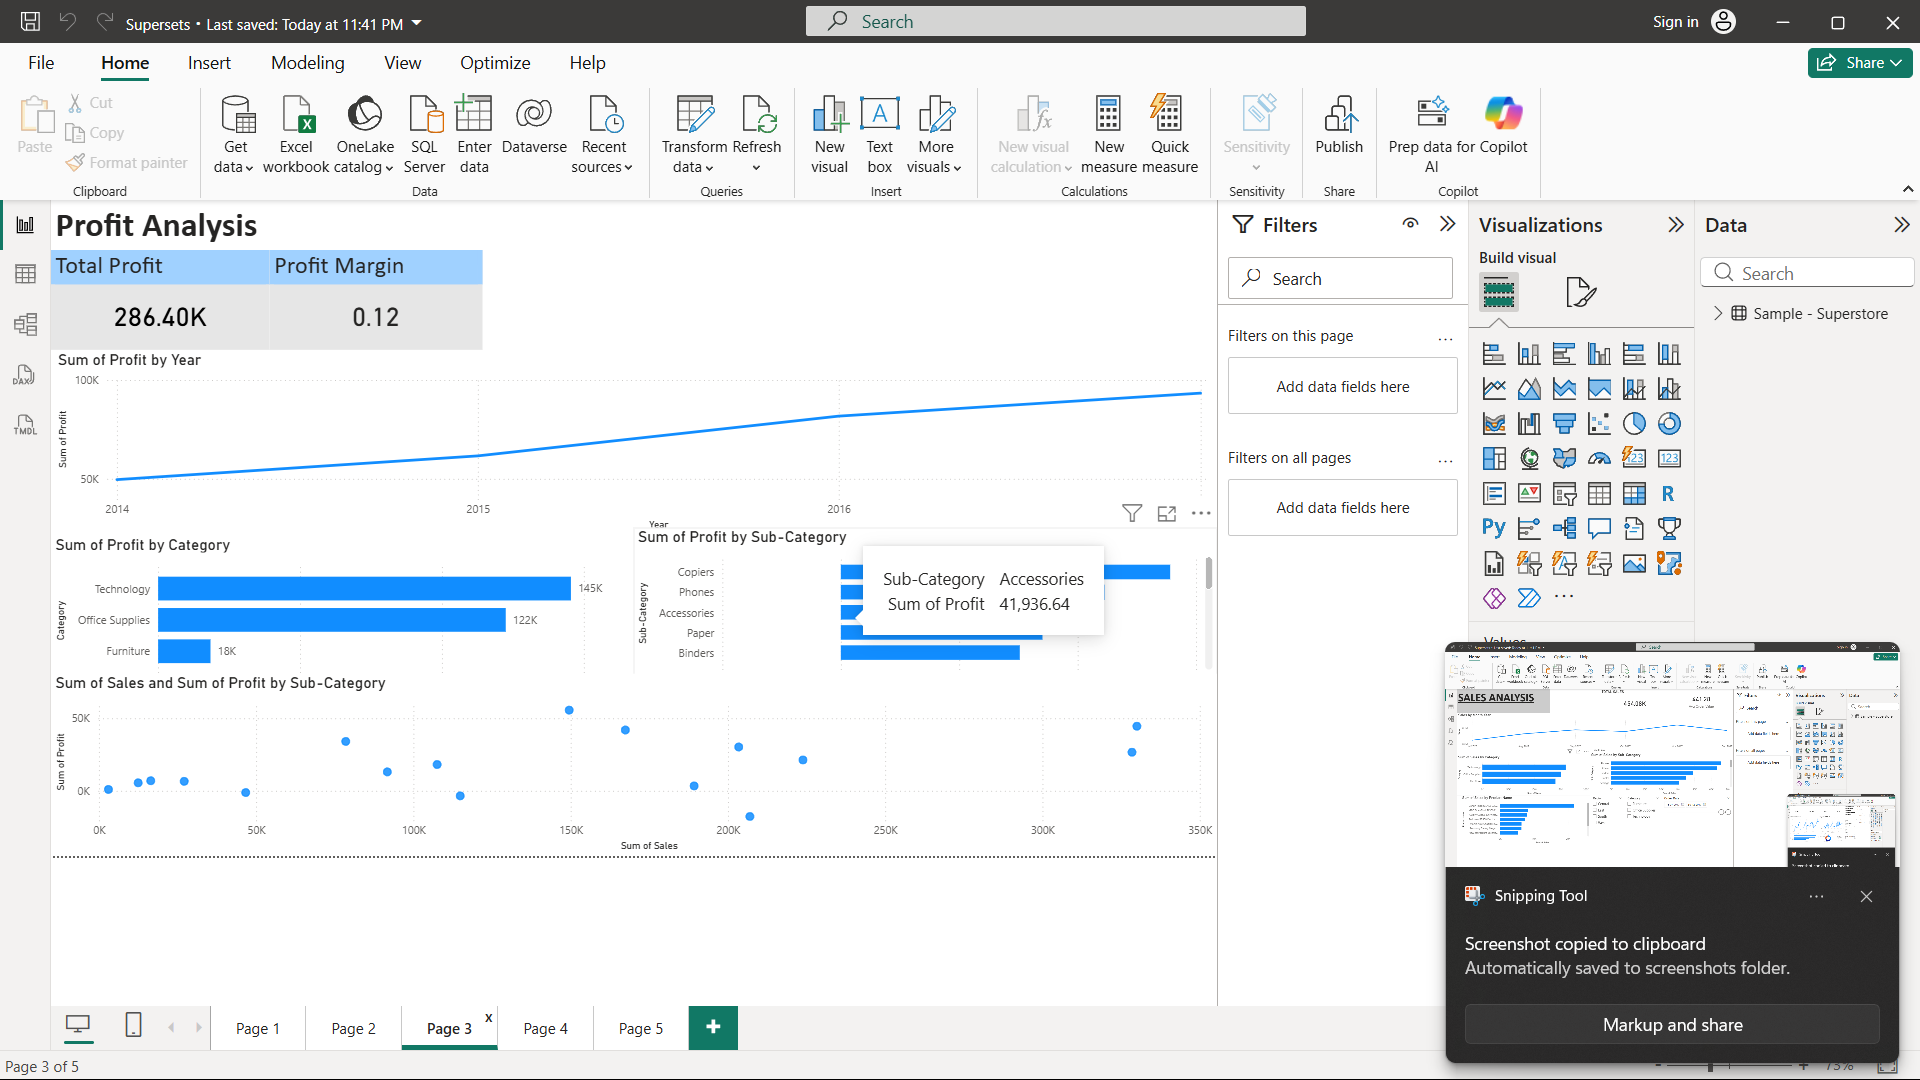

Layout of this report page (visuals, bound fields, positions):
{"tool":"powerbi","page":{"name":"Page 3","canvas":[1280,720],"ordinal":2},"visuals":[{"type":"textbox","box":[0,0,286.8,65.9],"z":0},{"type":"card","title":"Total Profit","fields":{"Values":["Sum(Sample - Superstore.Profit)"]},"box":[0,54.9,240.1,109.8],"z":1000},{"type":"card","title":"Profit Margin","fields":{"Values":["Sample - Superstore.Profit Margin"]},"box":[240.1,54.9,233.3,109.8],"z":2000},{"type":"lineChart","fields":{"Category":["Sample - Superstore.Month Year.Variation.Date Hierarchy.Year","Sample - Superstore.Month Year.Variation.Date Hierarchy.Quarter","Sample - Superstore.Month Year.Variation.Date Hierarchy.Month","Sample - Superstore.Month Year.Variation.Date Hierarchy.Day"],"Y":["Sum(Sample - Superstore.Profit)"]},"box":[2.7,164.7,1277.5,203.1],"z":3000},{"type":"barChart","fields":{"Category":["Sample - Superstore.Category"],"Y":["Sum(Sample - Superstore.Profit)"]},"box":[0,367.8,639.5,194.9],"z":4000},{"type":"barChart","fields":{"Category":["Sample - Superstore.Sub-Category"],"Y":["Sum(Sample - Superstore.Profit)"]},"box":[639.5,359.5,640.8,194.9],"z":5000},{"type":"scatterChart","fields":{"X":["Sum(Sample - Superstore.Sales)"],"Y":["Sum(Sample - Superstore.Profit)"],"Category":["Sample - Superstore.Sub-Category"]},"box":[0,520.1,1280.3,200.3],"z":6000}]}

Visuals, with their boxes on the page's 1280x720 design canvas (x1, y1, x2, y2). These are canvas units, not pixel positions in the 1920x1080 screenshot, which may show the page scaled, cropped or inside an application window:
textbox: detection(0, 0, 287, 66)
"Total Profit" card: detection(0, 55, 240, 165)
"Profit Margin" card: detection(240, 55, 473, 165)
lineChart - Sample - Superstore.Month Year.Variation.Date Hierarchy.Year x Sample - Superstore.Month Year.Variation.Date Hierarchy.Quarter: detection(3, 165, 1280, 368)
barChart - Sample - Superstore.Category x Sum(Sample - Superstore.Profit): detection(0, 368, 640, 563)
barChart - Sample - Superstore.Sub-Category x Sum(Sample - Superstore.Profit): detection(640, 360, 1280, 554)
scatterChart - Sum(Sample - Superstore.Sales) x Sum(Sample - Superstore.Profit): detection(0, 520, 1280, 720)
